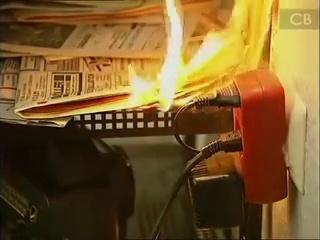Fire: (120, 1, 268, 116)
